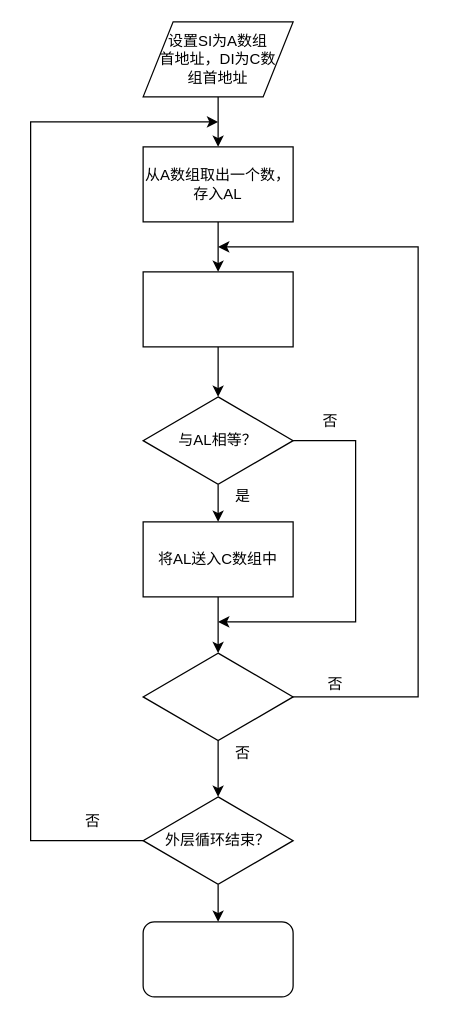
This 450x1019 diagram has some shape labels left out. The shapes that lost their labels are listed below. From the top down, each one's centre as x and y in pixels, then its label:
(217,309): 从B数组中取出一个数，与AL比较
(217,696): 内层循环结束？
(217,959): 结束
